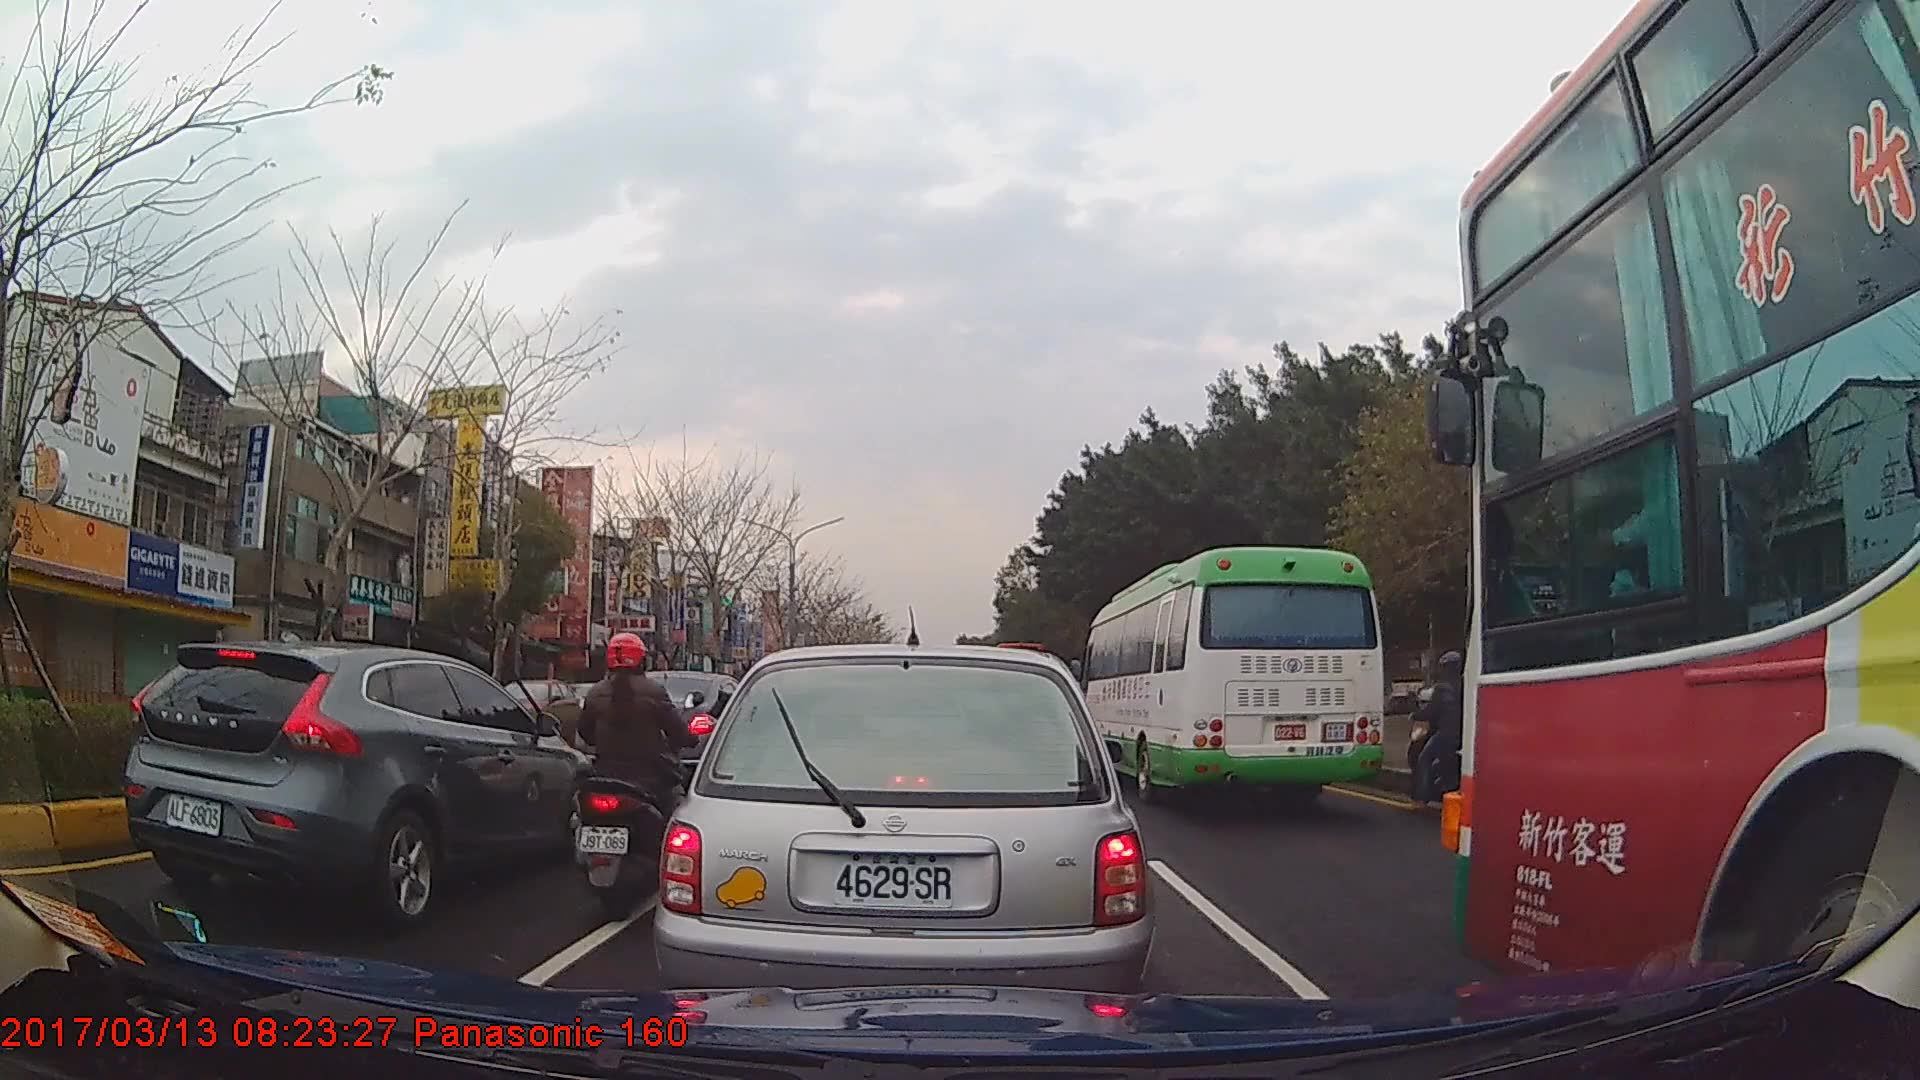rider: (575, 628, 705, 910), (1408, 652, 1499, 813)
vehicle: (1449, 0, 1920, 1031), (657, 642, 1156, 1040), (119, 642, 597, 921), (1079, 544, 1384, 807), (584, 668, 759, 788), (487, 677, 581, 732)
